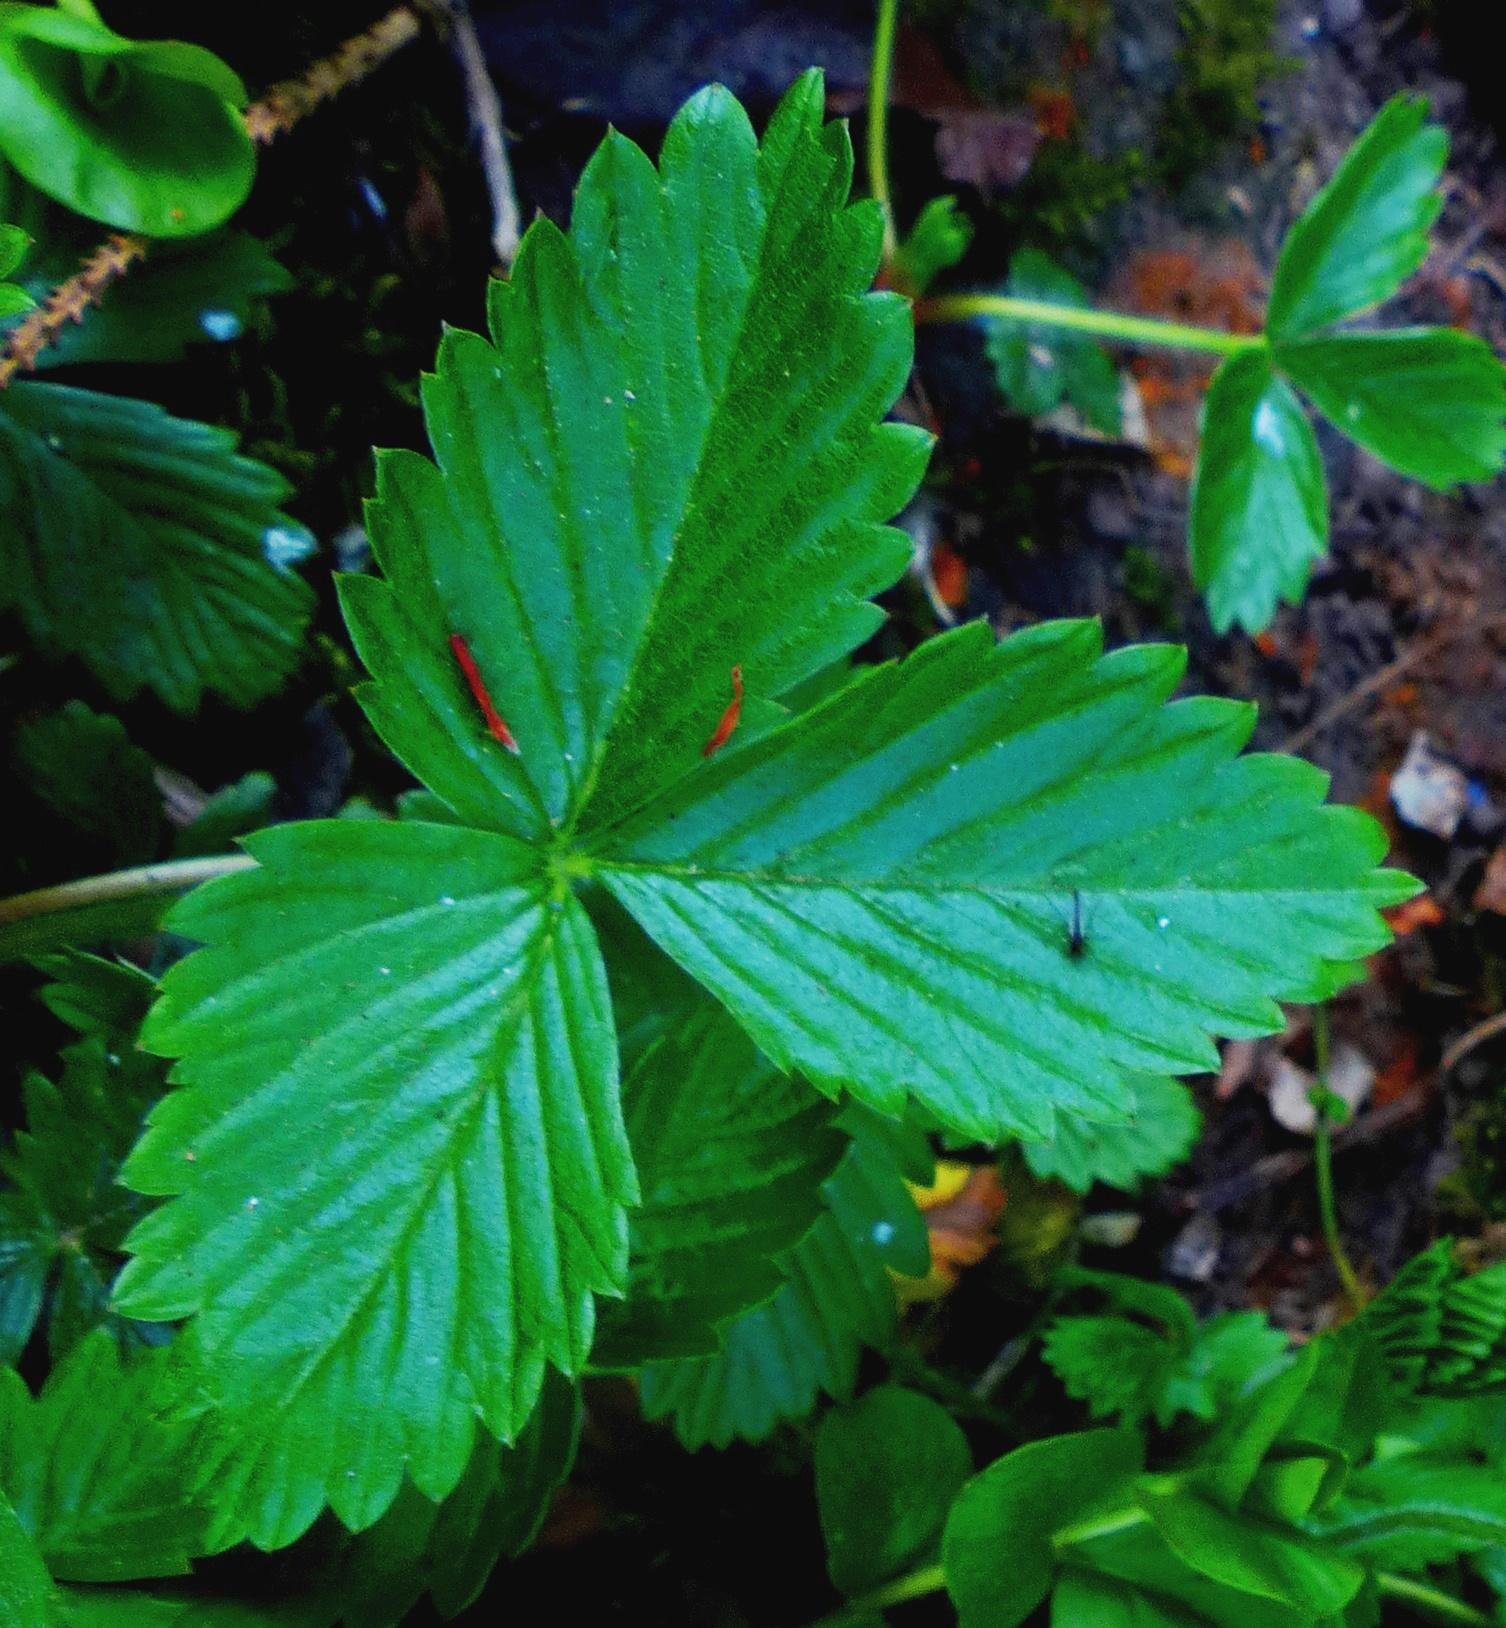Strawberry leaf: (332, 35, 935, 823), (618, 617, 1432, 1161), (106, 803, 634, 1544)
